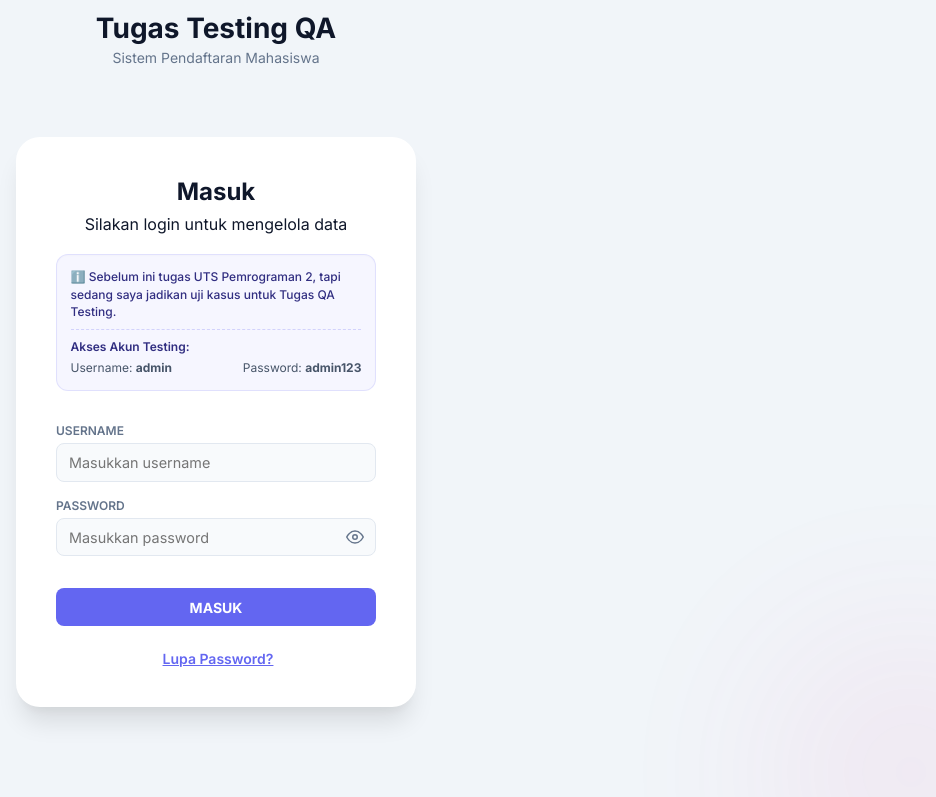
App Component › Authentication - View Switching › should navigate back to login from forgot password
Click the text "Lupa Password?": click(218, 659) [162,650,273,667]
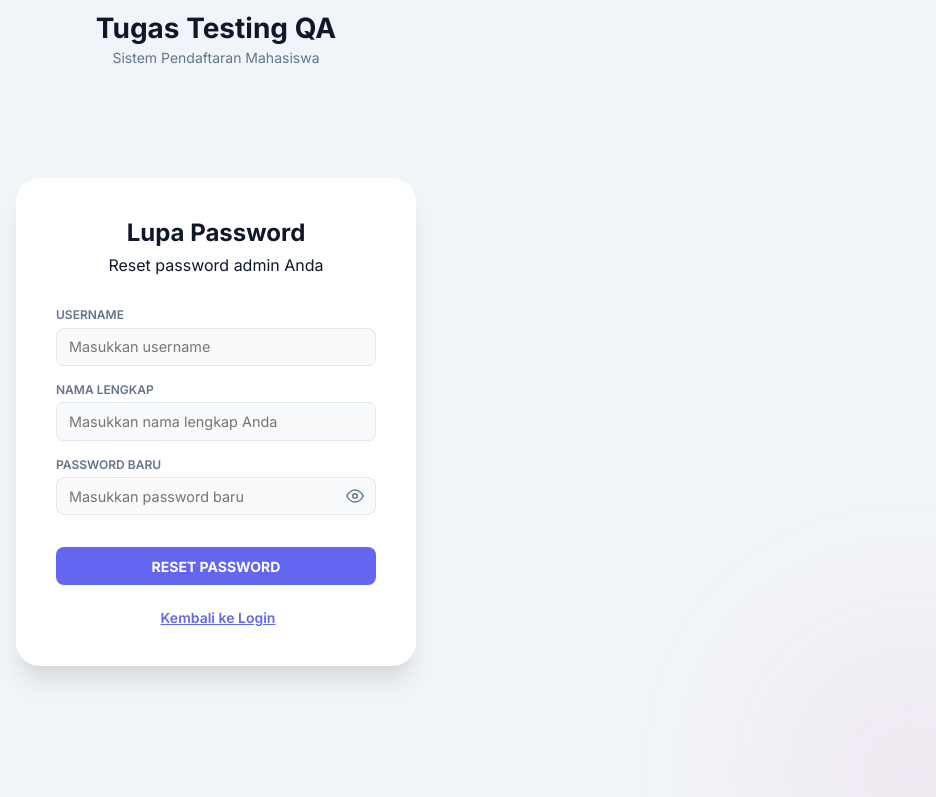
Click the text "Kembali ke Login": click(218, 618) [161,609,275,626]
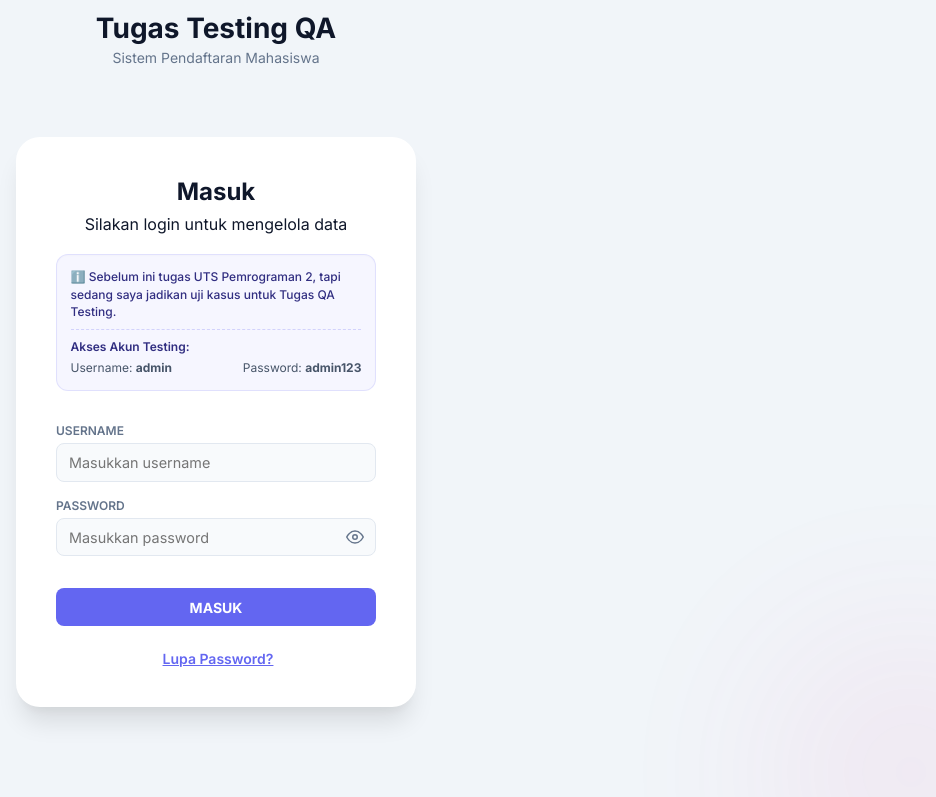
Expected: the heading "Masuk" is shown, [177,177,255,206]
